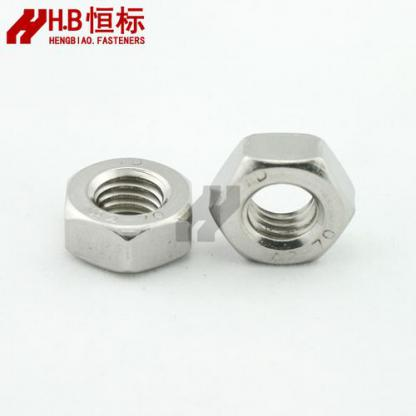FOD: (208, 133, 358, 269), (59, 153, 197, 274)
